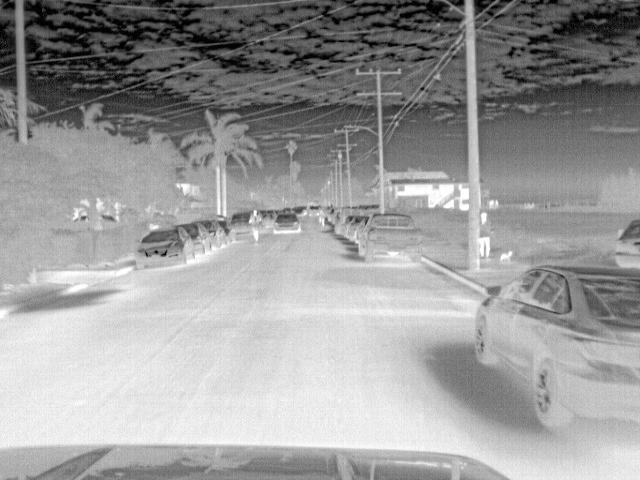car: (472, 266, 639, 428), (356, 212, 424, 261), (132, 226, 195, 272), (613, 216, 639, 267), (178, 222, 213, 254), (197, 220, 227, 246), (271, 211, 302, 235), (352, 214, 372, 246), (228, 212, 251, 238), (345, 214, 368, 240), (332, 209, 350, 237), (339, 214, 353, 239), (290, 204, 306, 218), (306, 204, 321, 218)
dog: (497, 250, 514, 264)
person: (478, 209, 494, 259), (249, 209, 263, 245), (315, 204, 328, 227)
